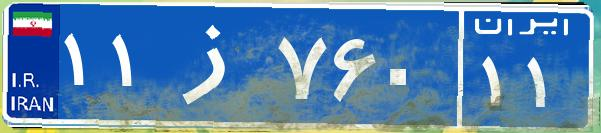0: (385, 28, 445, 110)
1: (57, 26, 110, 107), (475, 38, 525, 113), (110, 28, 158, 105), (525, 38, 570, 115)
6: (330, 28, 385, 110)
7: (273, 28, 330, 110)
ز: (158, 15, 273, 115)
